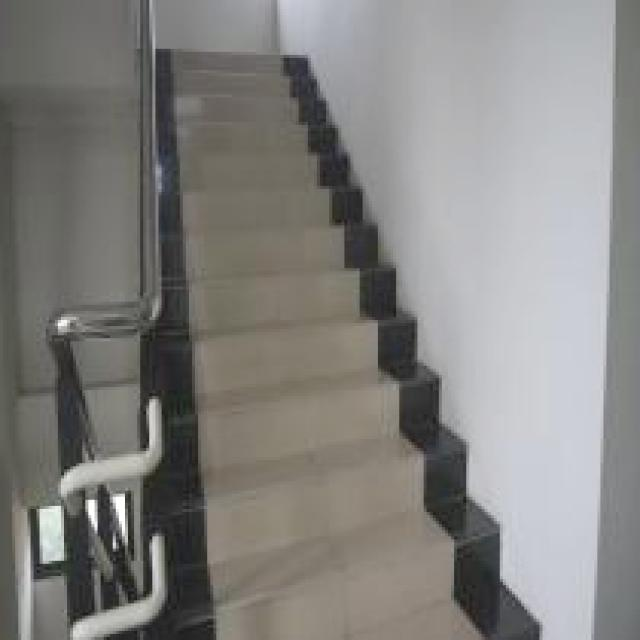upstair: (160, 89, 431, 640)
